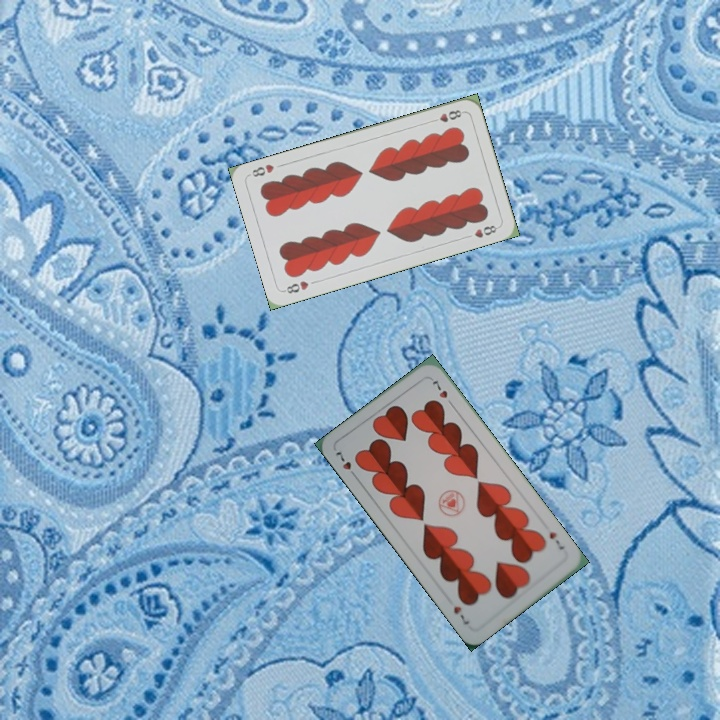H7: (331, 447, 360, 481), (545, 528, 567, 552)
H8: (426, 106, 466, 126), (280, 277, 311, 296)
